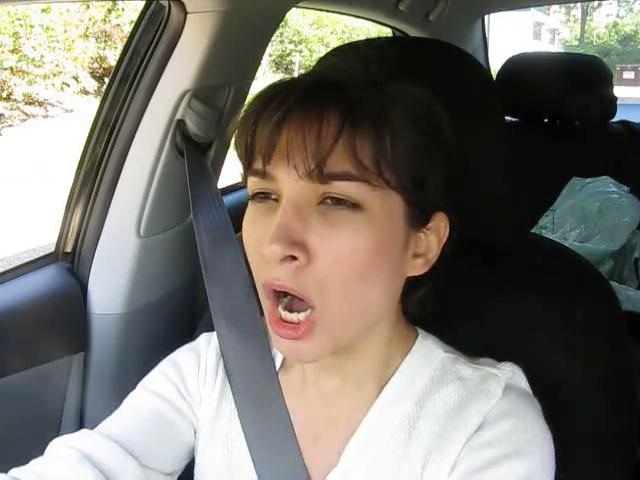close_eyeL: (242, 182, 289, 214)
close_eyeR: (305, 183, 381, 223)
yawn: (246, 278, 336, 347)
